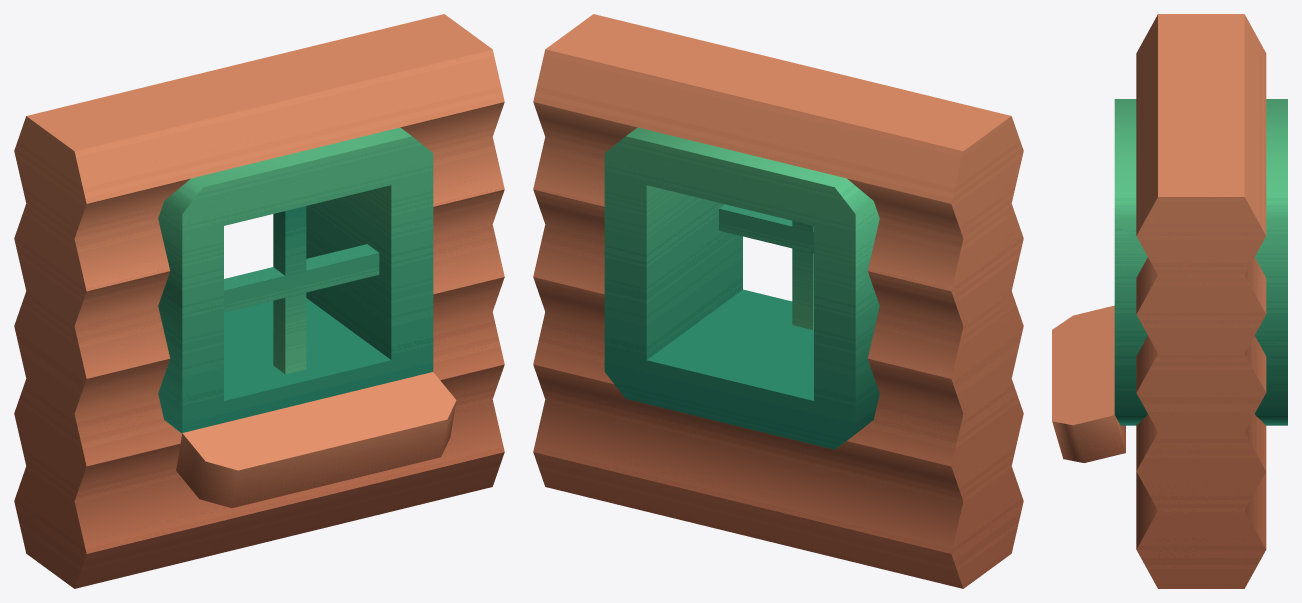
The model's file is cabin-window-a.glb.
3 renders of one model, left to right at view 1: azimuth 30°, elevation 25°; view 2: azimuth 150°, elevation 25°; view 3: azimuth 270°, elevation 25°, orthographic. The views are drawn at different scales.
Parts seen in each view (by area): view 1: cabin-window-a; view 2: cabin-window-a; view 3: cabin-window-a.
Boxes of the visible parts, left/top/right/bottom form: cabin-window-a: left=14, top=14, right=504, bottom=588; cabin-window-a: left=533, top=14, right=1023, bottom=588; cabin-window-a: left=1052, top=14, right=1287, bottom=588.
Size of the model in its own units: 3 by 3 by 1.63.
Materials: 1 (1 with a texture image).
